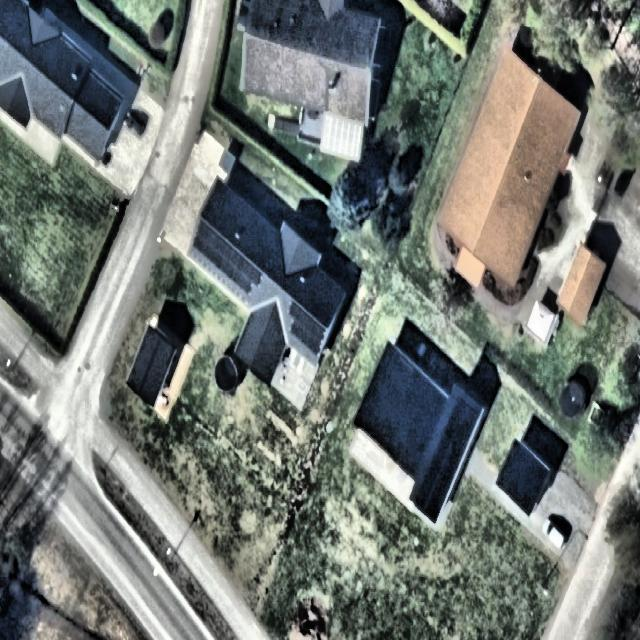roof_pv: (411, 466, 457, 524), (220, 240, 265, 298), (288, 301, 328, 361), (436, 395, 482, 434), (193, 220, 220, 270), (430, 434, 471, 464)
